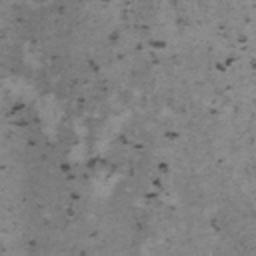Oxide scale of temperature system: (60, 131, 179, 201), (76, 23, 168, 106), (0, 102, 40, 172), (17, 4, 65, 60), (214, 23, 256, 73), (209, 218, 223, 234), (28, 238, 36, 246), (211, 108, 218, 114)
